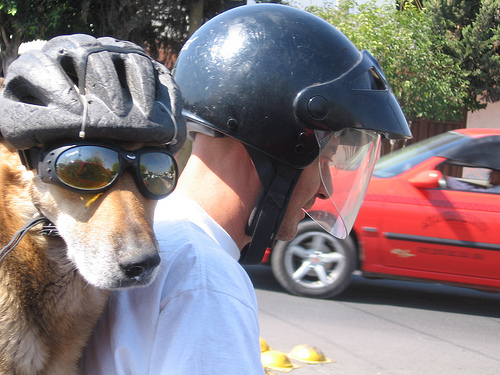helmet: (177, 6, 421, 189), (8, 33, 188, 159)
